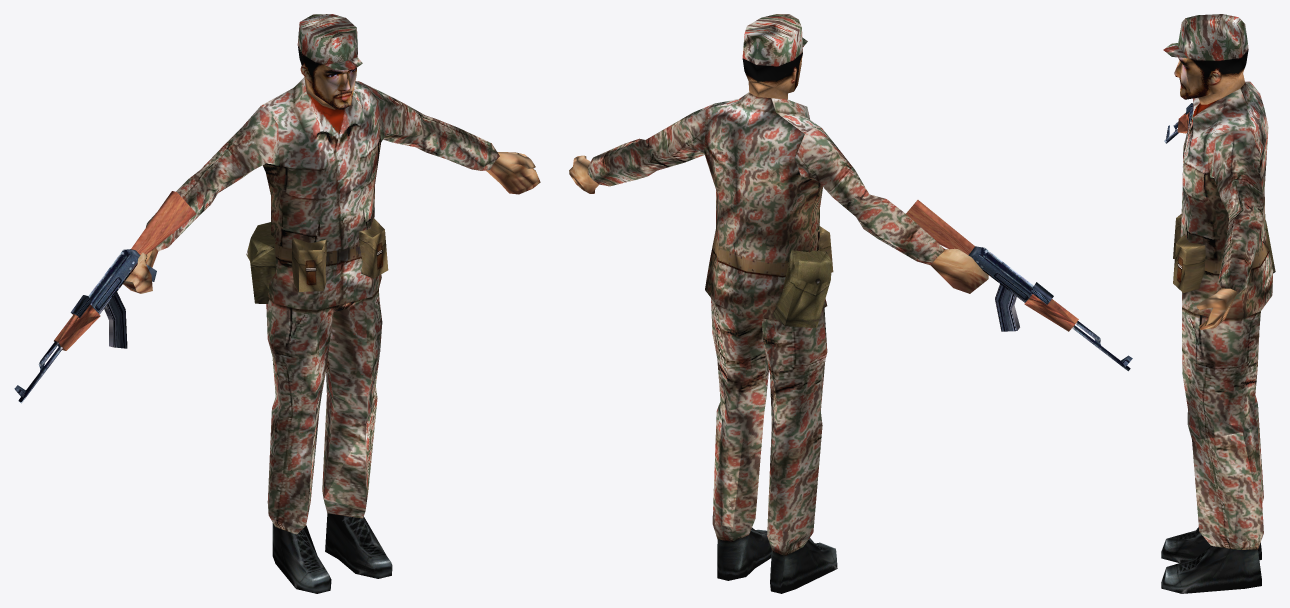
Rendered from IRST2.glb.
The picture shows the model from 3 angles, left to right: view 1: azimuth 30°, elevation 25°; view 2: azimuth 150°, elevation 25°; view 3: azimuth 270°, elevation 25°; orthographic projection.
Visible parts, largest first — view 1: _IRST2; view 2: _IRST2; view 3: _IRST2.
Boxes of the visible parts, box(x1,y1,x2,y2) form: _IRST2: box(14, 14, 540, 593); _IRST2: box(569, 14, 1132, 593); _IRST2: box(1161, 14, 1275, 593).
Size of the model in its own units: 2.11 by 2.02 by 0.3813.
Materials: 1 (1 with a texture image).
